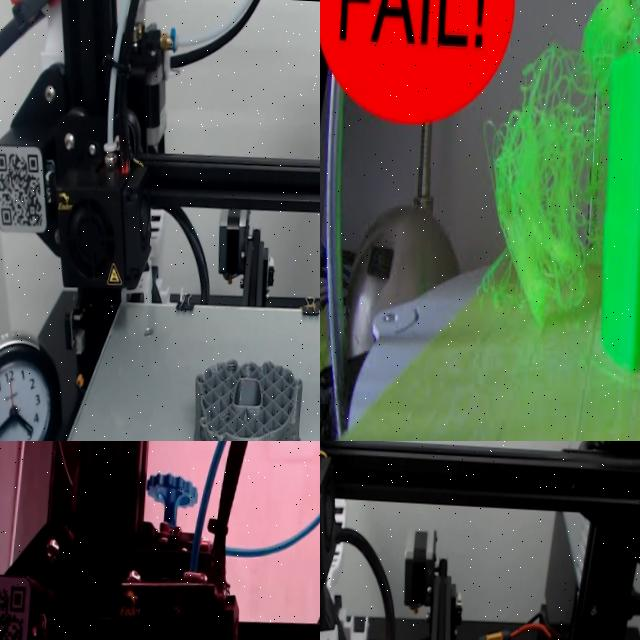spaghetti: (485, 48, 604, 327)
